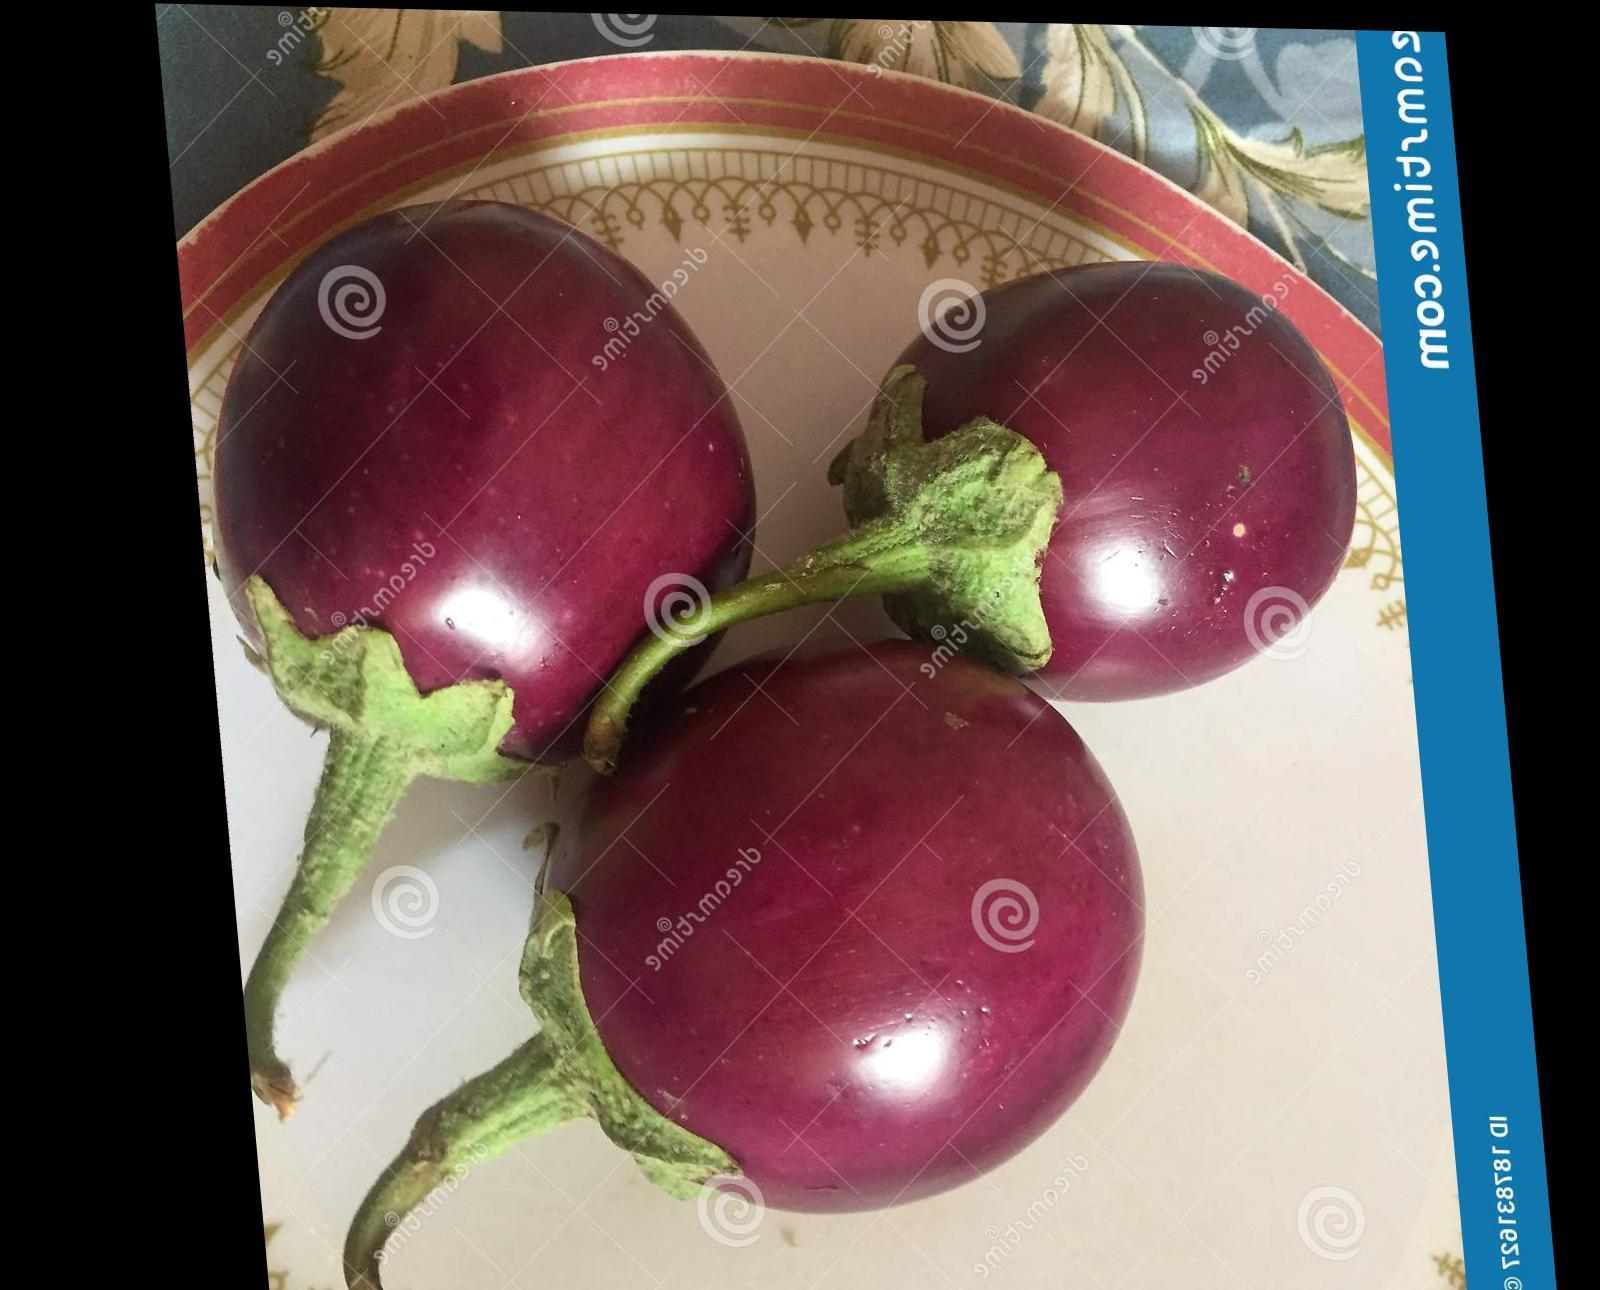eggplant: (291, 691, 1180, 1289), (597, 147, 1408, 785), (171, 180, 753, 890)
